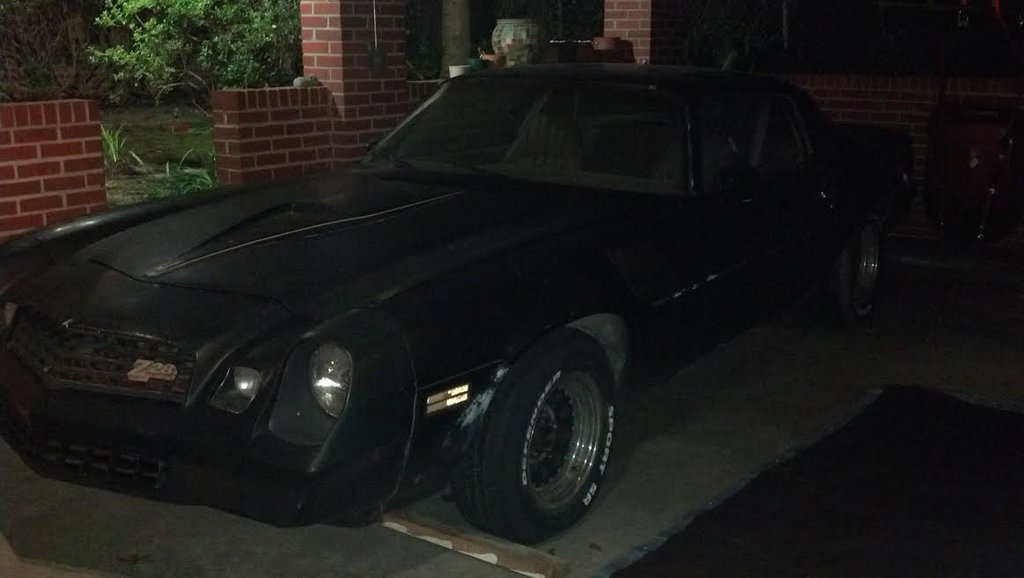car: (7, 54, 921, 554)
